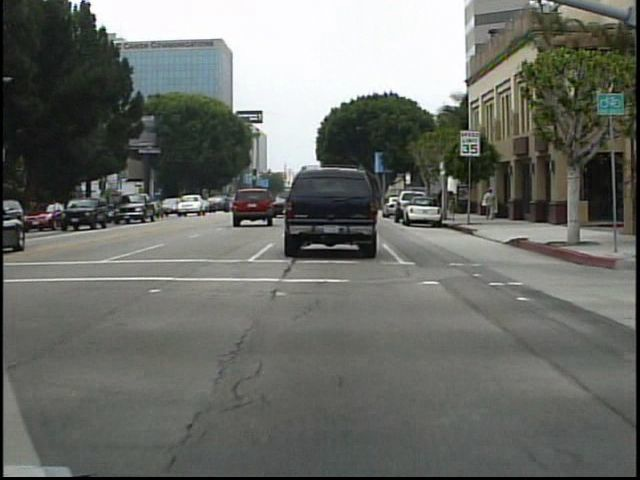person: (480, 181, 498, 225), (434, 186, 450, 221)
